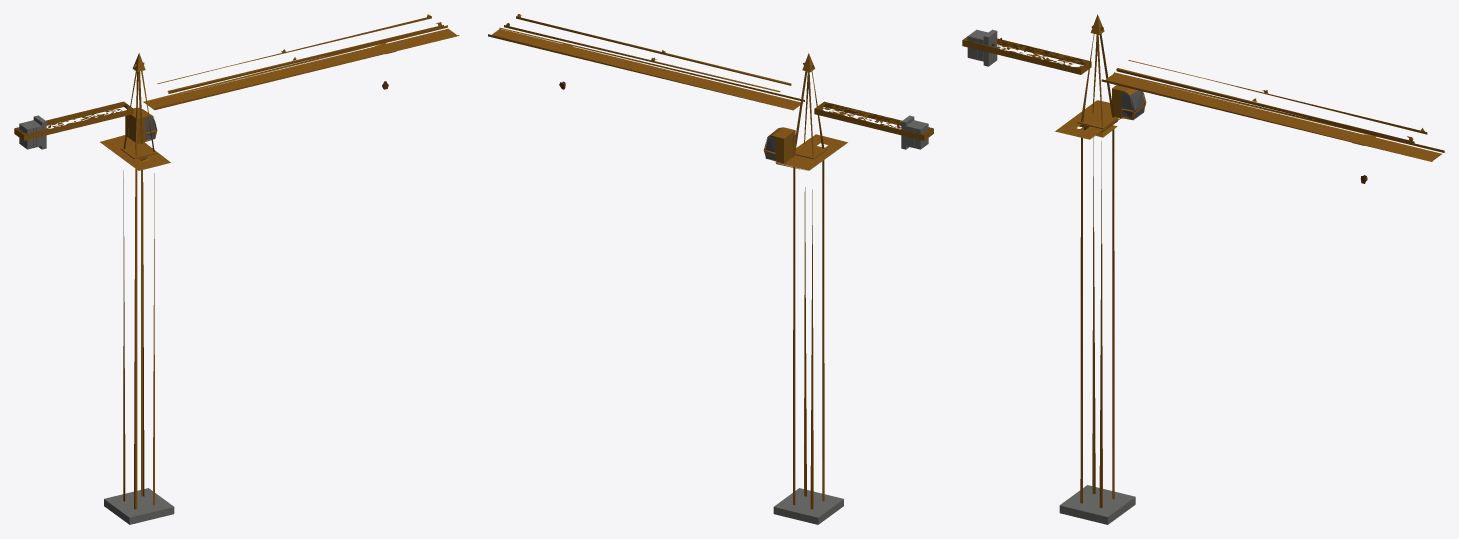
Rendered from tower-crane.lod1.glb.
3 views of the same model, side by side, from view 1: azimuth 30°, elevation 25°; view 2: azimuth 150°, elevation 25°; view 3: azimuth 330°, elevation 25° (orthographic). The views are drawn at different scales.
Parts seen in each view (by area): view 1: Cube.052_UV_0; view 2: Cube.052_UV_0; view 3: Cube.052_UV_0.
Boxes of the visible parts, x1=… form: Cube.052_UV_0: x1=14, y1=14, x2=459, y2=524; Cube.052_UV_0: x1=488, y1=14, x2=933, y2=524; Cube.052_UV_0: x1=962, y1=14, x2=1444, y2=524.
Size of the model in its own units: 47.77 by 48 by 7.62.
